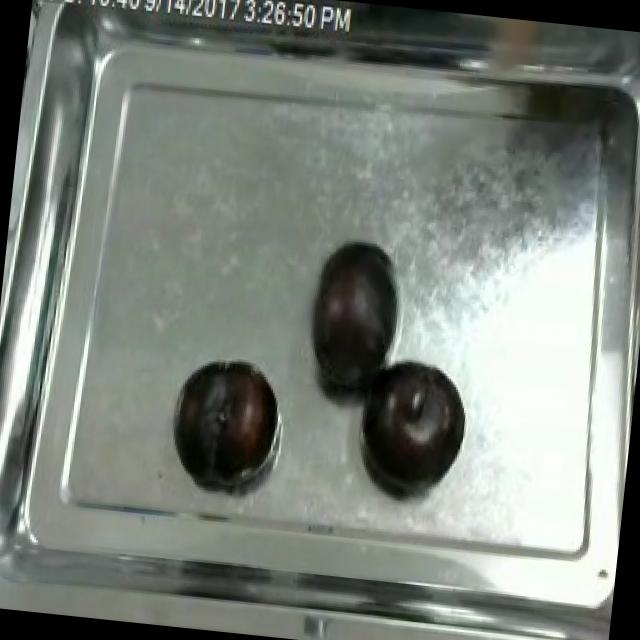Fruit: (300, 232, 408, 393), (353, 352, 472, 494), (163, 352, 285, 485), (519, 628, 608, 640)
